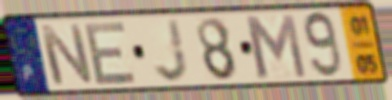8: (195, 15, 238, 83)
9: (303, 9, 346, 81)
E: (82, 19, 140, 87)
J: (152, 17, 191, 85)
M: (241, 12, 310, 81)
N: (36, 22, 97, 88)
